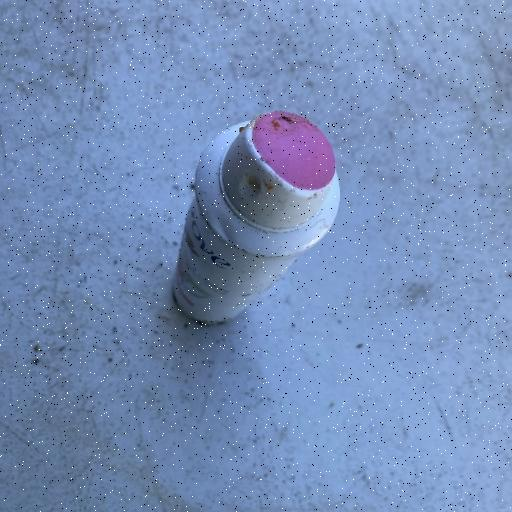Metal: (170, 108, 341, 328)
